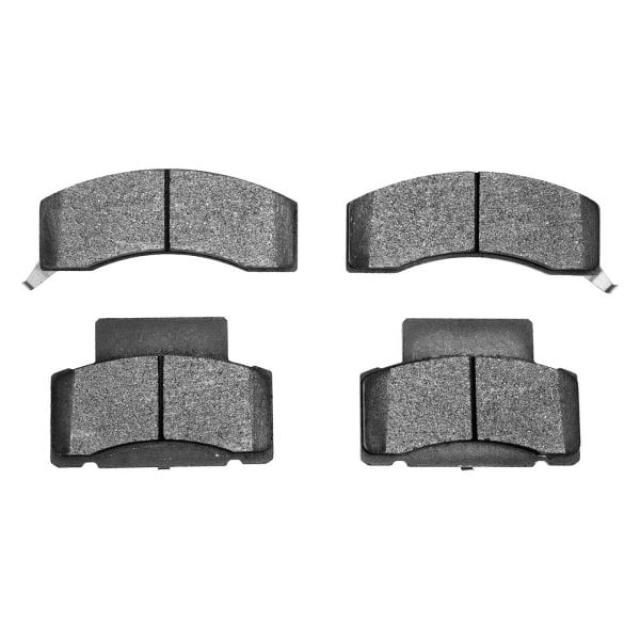brake_pad: (14, 306, 299, 474), (336, 308, 608, 474), (18, 157, 302, 296), (333, 170, 622, 306)
